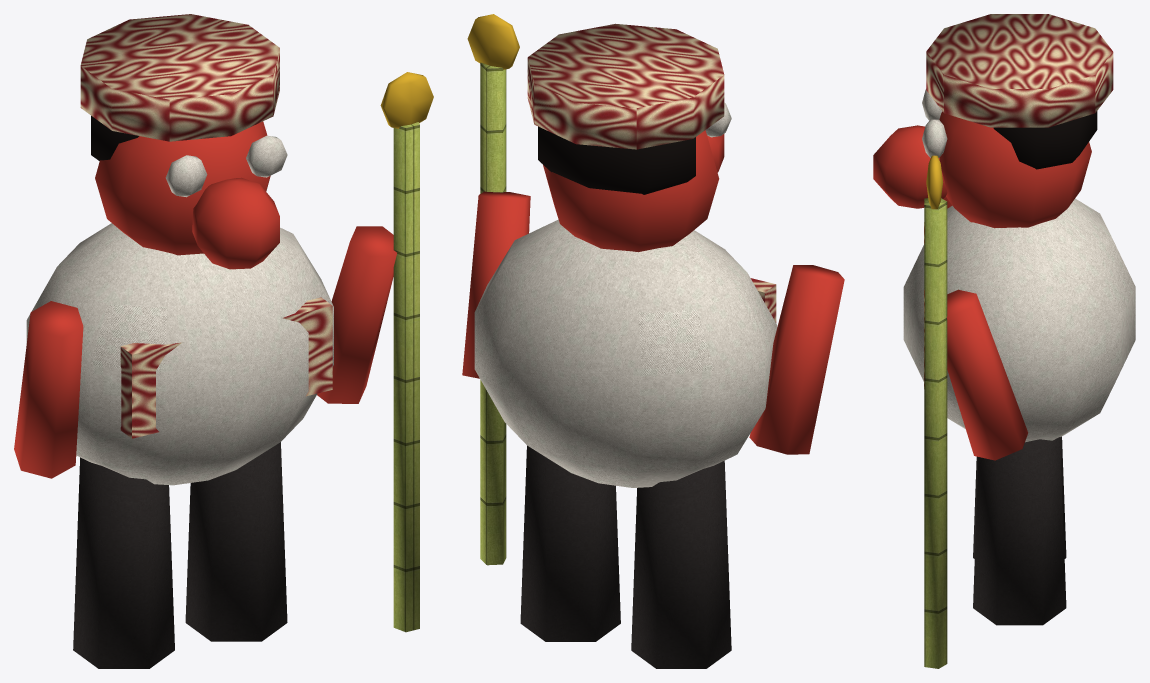
The model's file is hero_sunda.glb.
The picture shows the model from 3 angles, left to right: view 1: azimuth 30°, elevation 25°; view 2: azimuth 150°, elevation 25°; view 3: azimuth 270°, elevation 25°; orthographic projection. The views are drawn at different scales.
Parts seen in each view (by area): view 1: hero_sunda; view 2: hero_sunda; view 3: hero_sunda.
Part boxes in pixels (x1,y1,x2,y2): hero_sunda: [14, 14, 433, 668]; hero_sunda: [462, 14, 844, 668]; hero_sunda: [873, 14, 1135, 668].
Bounding box in the file's own units: 0.9662 × 1.38 × 0.6176.
Materials: 7 (4 with a texture image).
